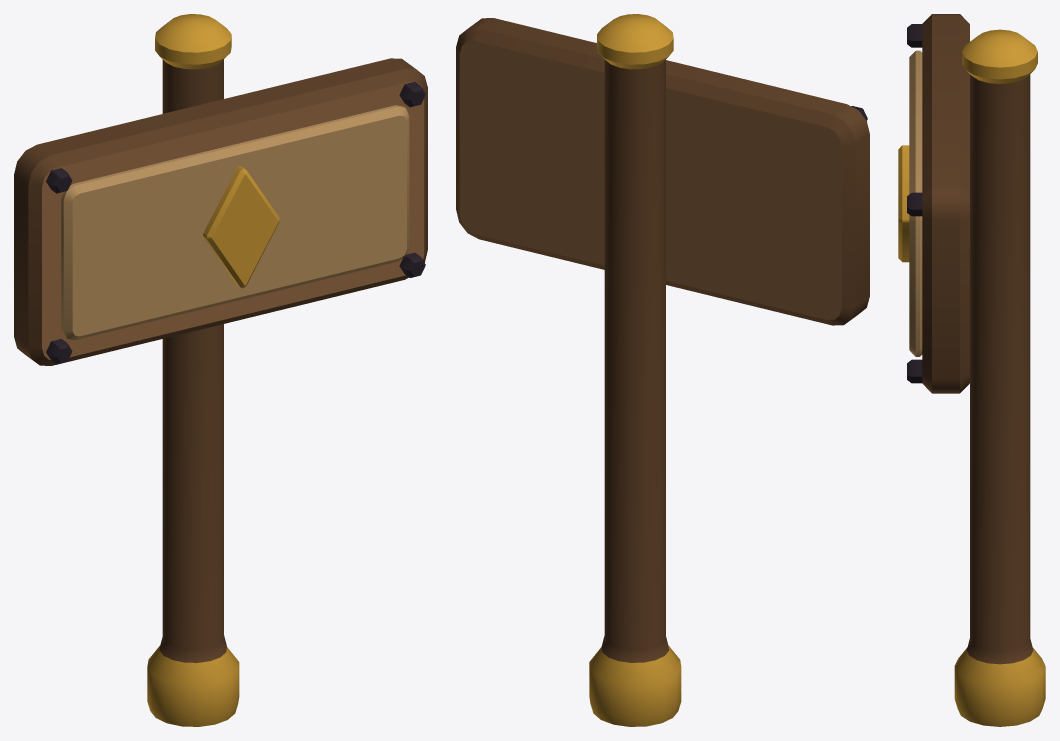
File: Sign_25.glb
The picture shows the model from 3 angles, left to right: view 1: azimuth 30°, elevation 25°; view 2: azimuth 150°, elevation 25°; view 3: azimuth 270°, elevation 25°; orthographic projection. The views are drawn at different scales.
Visible parts, largest first — view 1: Sign_25; view 2: Sign_25; view 3: Sign_25.
Part boxes in pixels (left/top/right/bottom): Sign_25: left=14, top=14, right=427, bottom=726; Sign_25: left=456, top=14, right=869, bottom=726; Sign_25: left=898, top=14, right=1045, bottom=726.
Size of the model in its own units: 2.09 by 3.43 by 0.68.
